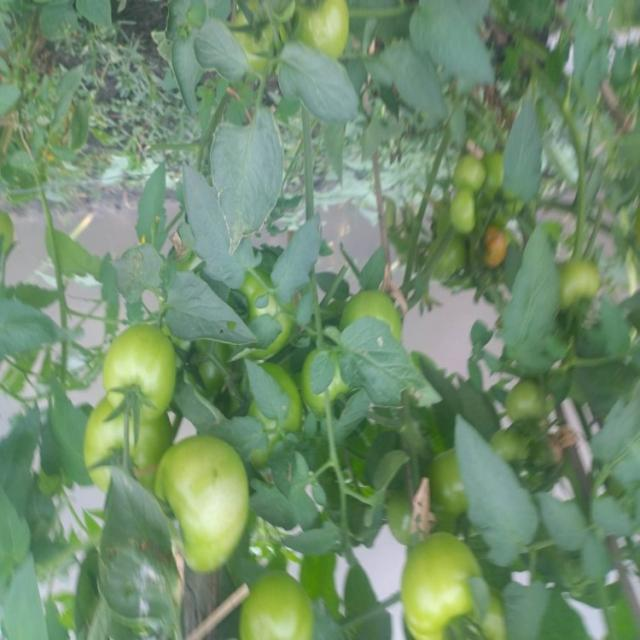tomato: (377, 522, 532, 640), (144, 430, 264, 581), (102, 318, 183, 428), (75, 386, 155, 491), (219, 566, 319, 640), (286, 1, 364, 68), (225, 1, 281, 77), (553, 254, 614, 319), (428, 447, 484, 517), (338, 280, 403, 338), (462, 219, 527, 275), (433, 179, 484, 246), (505, 374, 568, 426), (441, 145, 489, 200), (488, 415, 532, 470)
